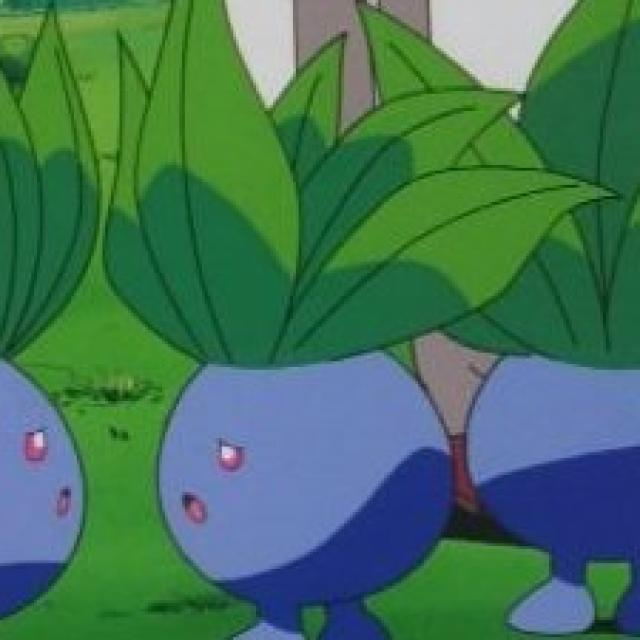Oddish: (152, 116, 459, 640)
